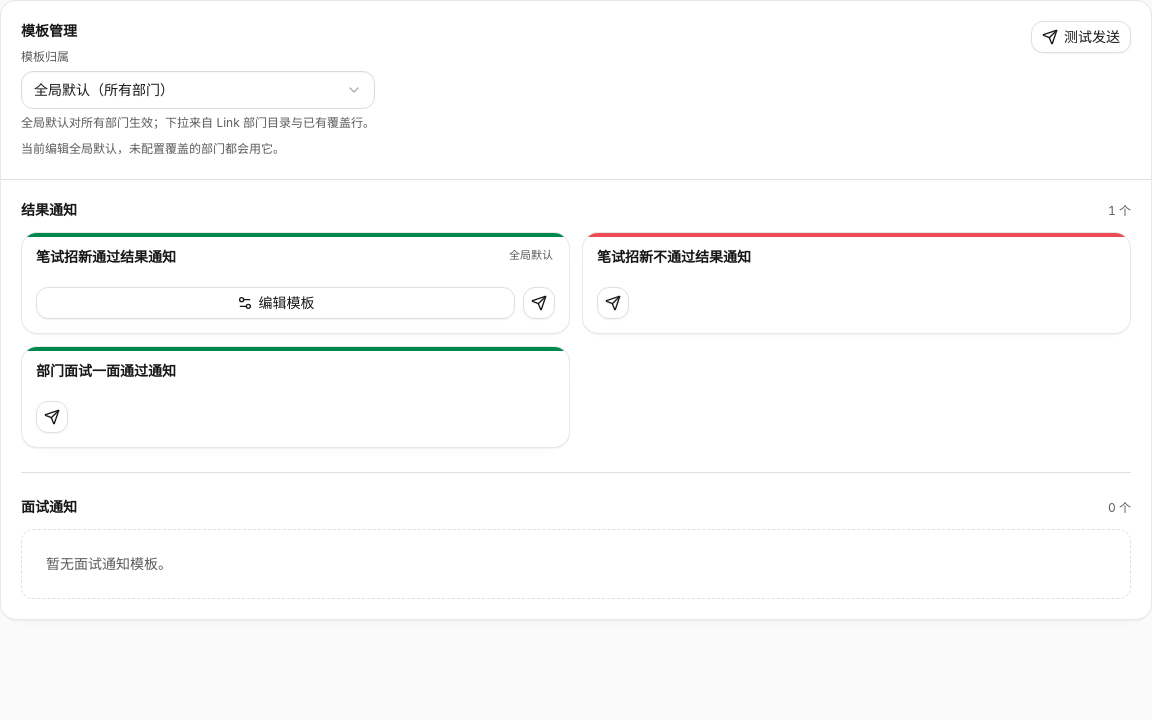
it: EmailTemplateManagementSection › 全局默认行不存在时不显示恢复按钮
Step 1. Click the button "编辑模板" → x=276, y=303, box [36, 287, 515, 319]
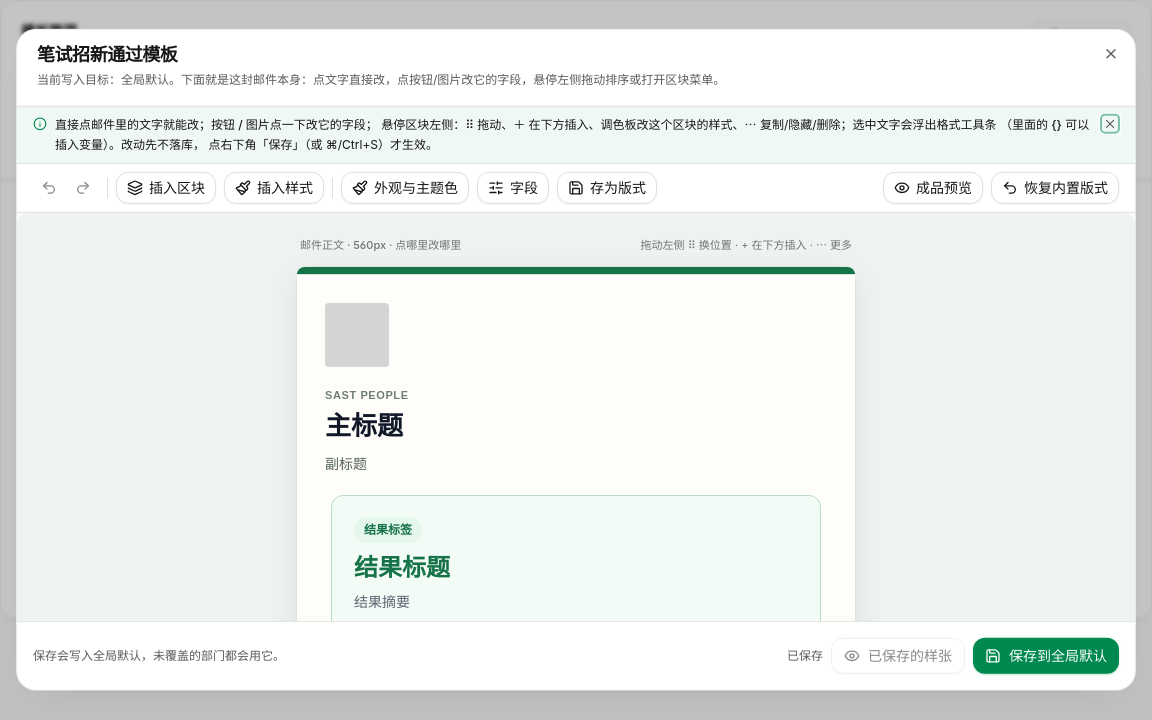
Check: the button "保存到全局默认" is shown, box [973, 638, 1119, 674]
